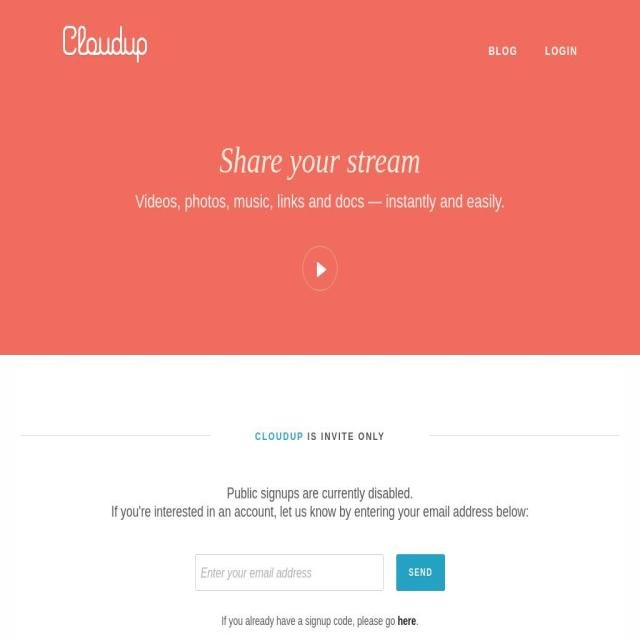button: (62, 26, 148, 64), (396, 554, 445, 591)
field: (195, 554, 384, 591)
heading: (6, 138, 634, 184), (0, 184, 640, 218), (307, 430, 385, 442), (255, 430, 307, 442)
link: (545, 44, 578, 58), (488, 44, 518, 58), (397, 614, 417, 628)
text: (111, 503, 530, 520), (226, 485, 413, 502), (221, 614, 398, 628), (416, 614, 418, 628)
